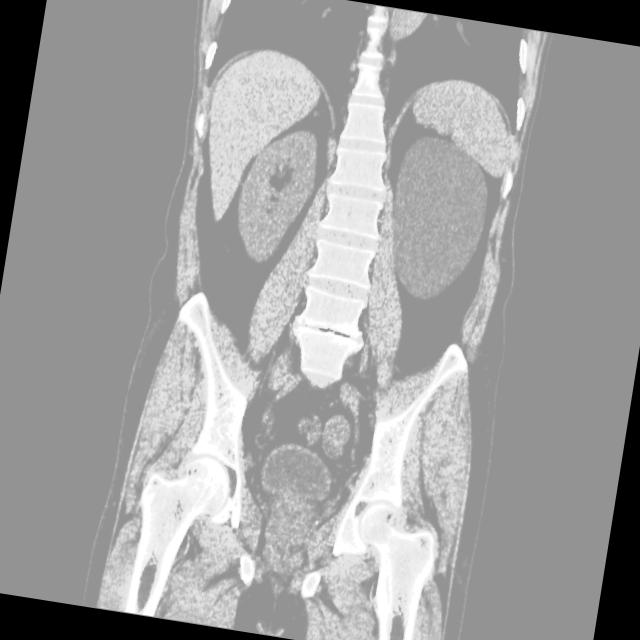cysts: (85, 0, 555, 640)
